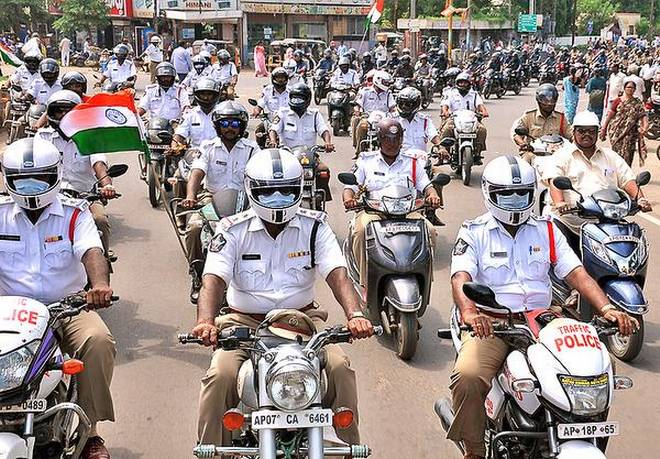helmet: (243, 146, 309, 220), (1, 137, 66, 211), (483, 157, 538, 223), (208, 101, 253, 142), (374, 117, 404, 152), (571, 108, 604, 138), (532, 83, 565, 113), (288, 80, 312, 113), (152, 62, 180, 90), (397, 86, 423, 113), (374, 66, 396, 92), (269, 67, 290, 89), (189, 53, 210, 75), (110, 40, 131, 62), (37, 57, 58, 79), (453, 71, 475, 91), (336, 57, 354, 74), (24, 51, 40, 70), (216, 48, 232, 67)
